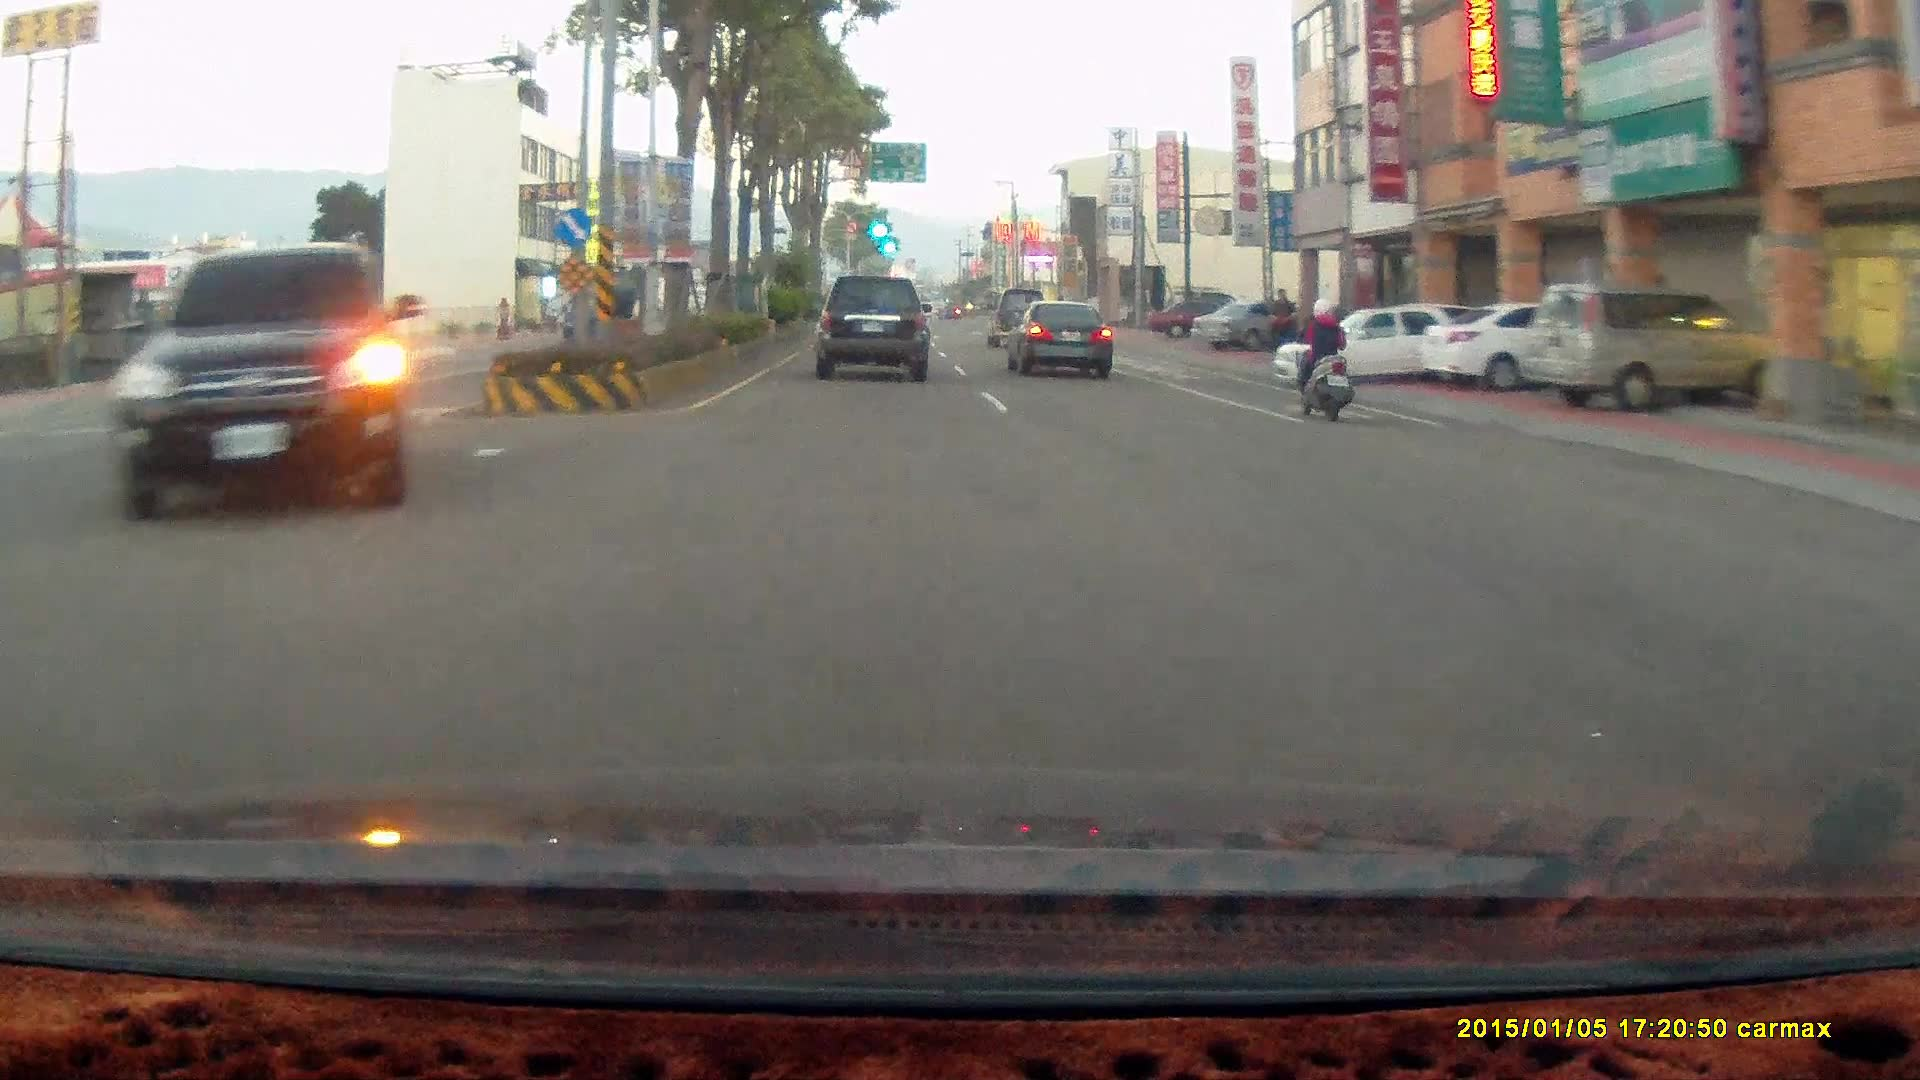pedestrian: (1265, 287, 1295, 362)
rider: (1281, 289, 1366, 428), (1290, 296, 1355, 422)
vehicle: (100, 241, 428, 522), (107, 238, 413, 523), (1518, 281, 1777, 425), (1521, 281, 1785, 412), (1418, 300, 1653, 395), (1274, 307, 1493, 398), (1415, 298, 1626, 391), (1272, 303, 1468, 388), (814, 274, 933, 383), (813, 273, 931, 382), (1007, 301, 1124, 382), (1004, 297, 1109, 378), (1192, 302, 1309, 355), (1191, 300, 1309, 352), (1148, 295, 1252, 340), (983, 286, 1050, 345)
